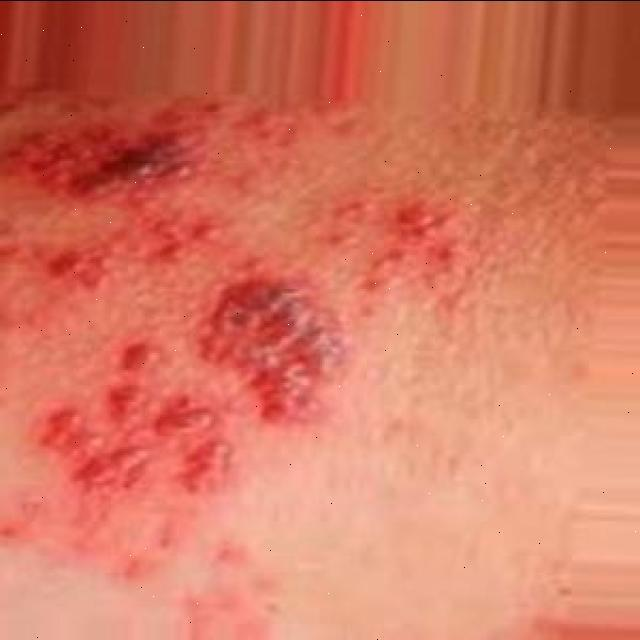Shingles: (0, 100, 360, 499)
